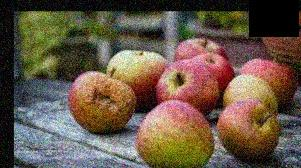rotten apple: (60, 67, 138, 137)
